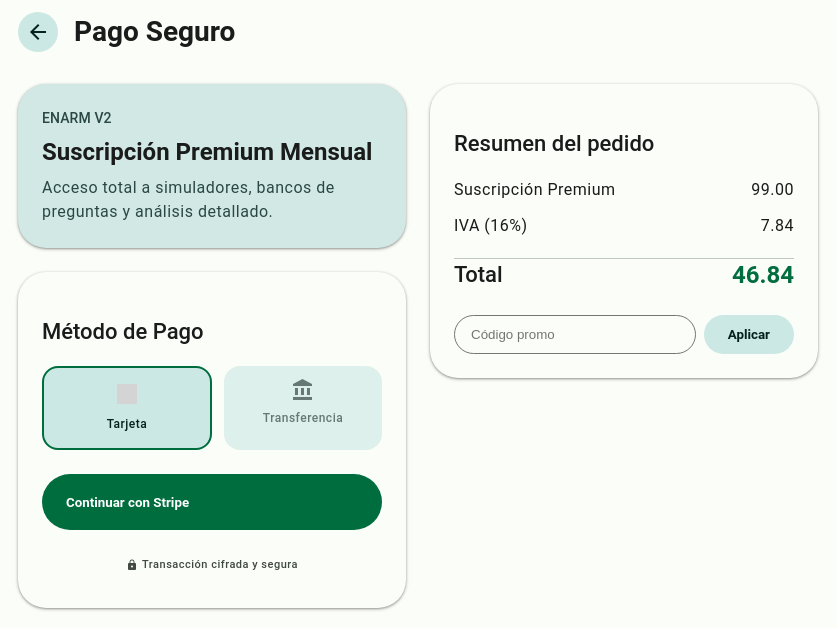
Test: V2Checkout › handles promo code input
Type "DESC50" into the field with placeholder "Código promo".
click(575, 334); type("DESC50")  # box x1=454 y1=315 x2=696 y2=354
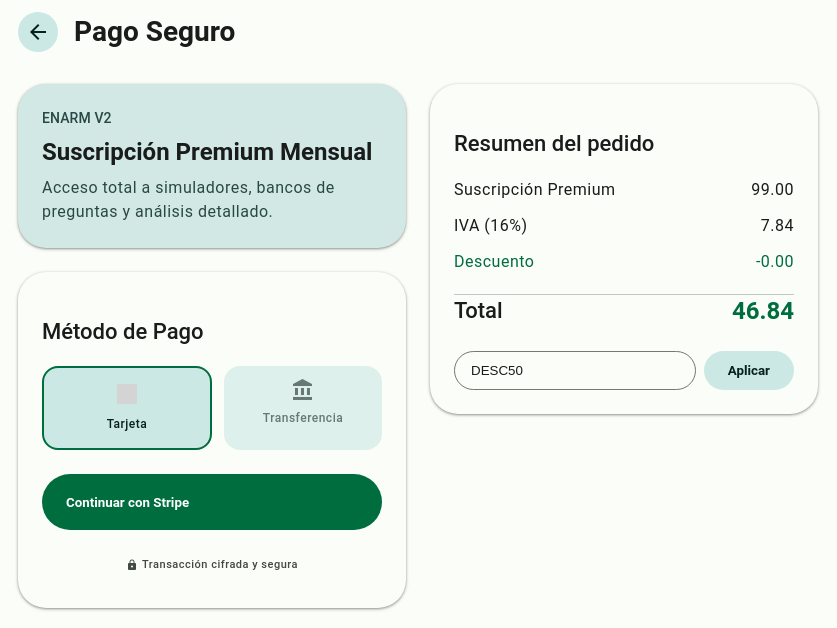
Now the text "Descuento" is shown, box x1=454 y1=250 x2=534 y2=274
